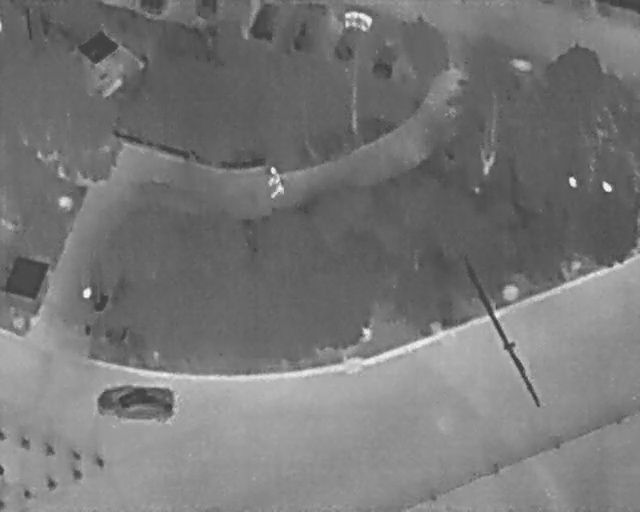Car: (94, 385, 177, 426), (326, 7, 377, 70), (365, 22, 412, 83), (287, 0, 328, 54), (246, 0, 282, 43), (193, 0, 220, 22), (138, 0, 166, 16)
Person: (267, 166, 282, 187), (269, 180, 285, 199)
